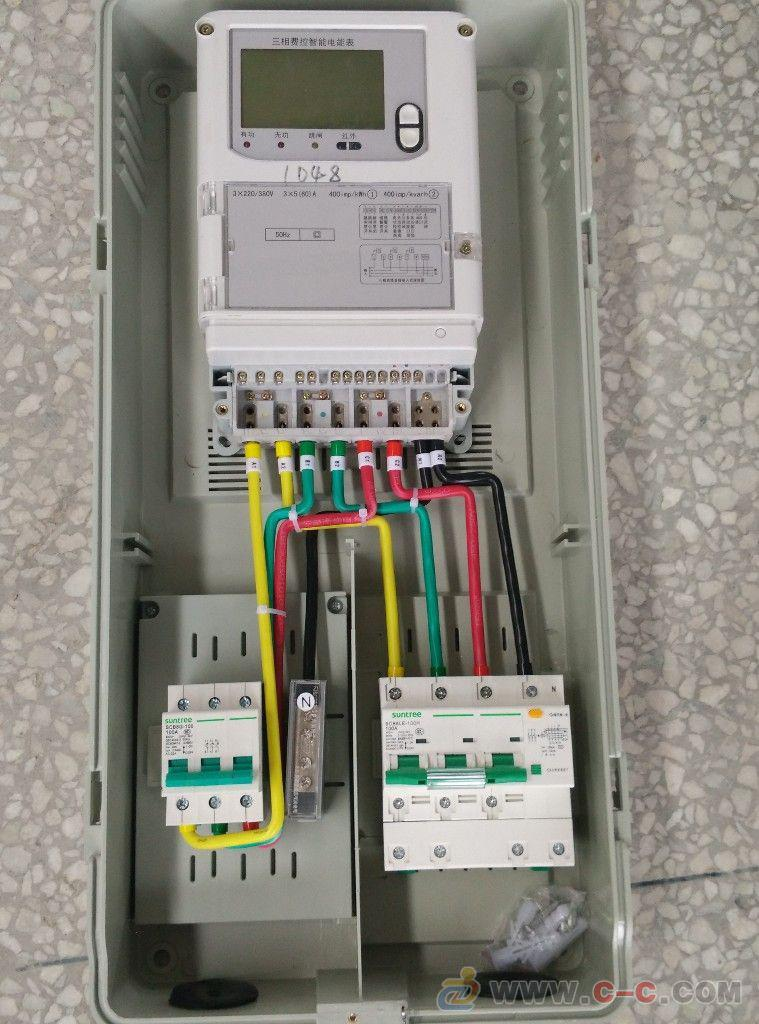digital: (197, 8, 484, 325)
